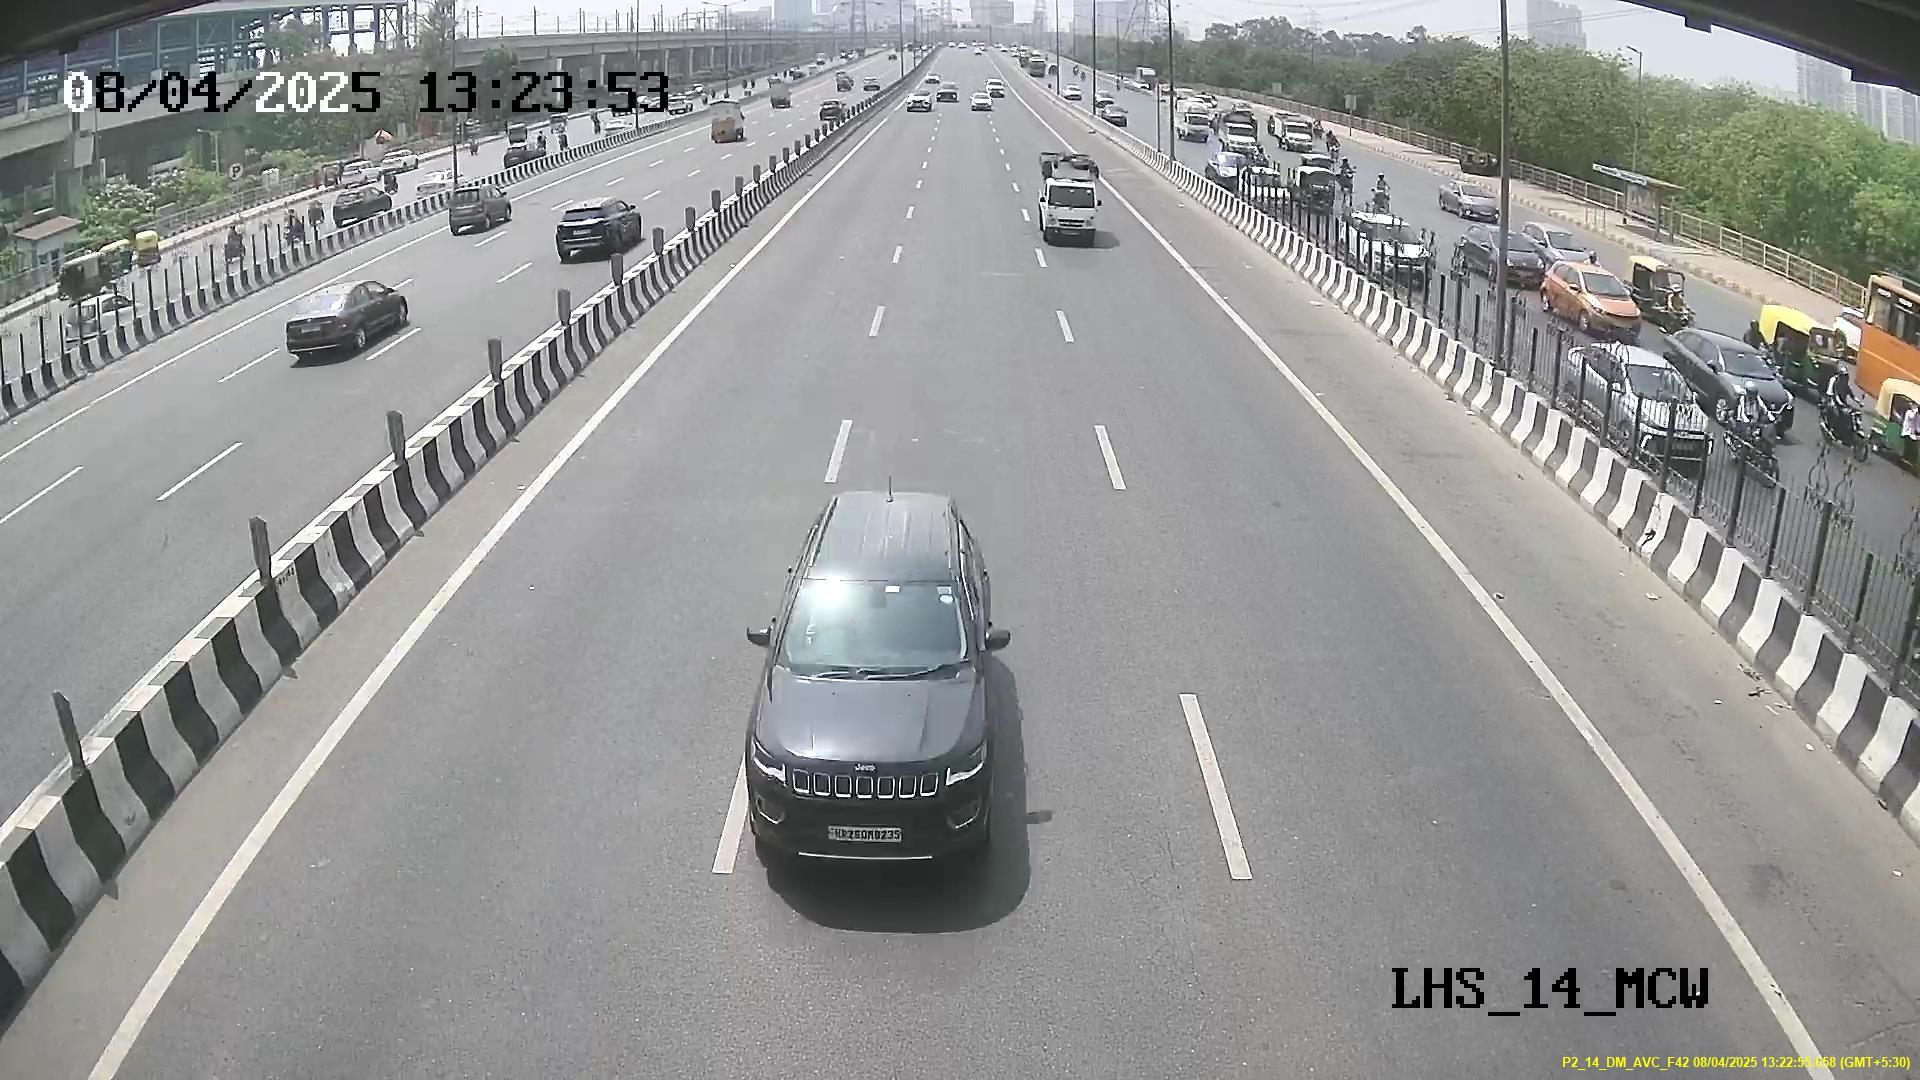car: (741, 554, 1000, 861), (1036, 165, 1104, 252)
